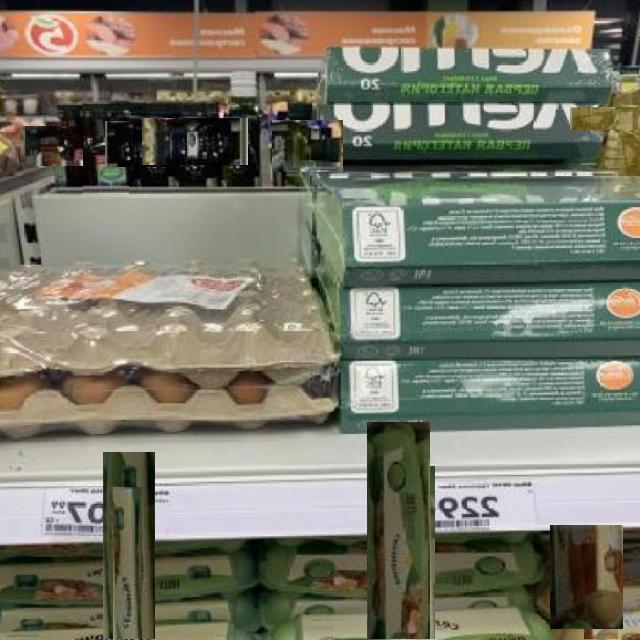Egg: (368, 422, 430, 640), (102, 453, 155, 640), (551, 524, 623, 629), (216, 66, 272, 193), (404, 467, 435, 640), (143, 117, 248, 165), (249, 120, 343, 172), (83, 98, 129, 198), (113, 487, 142, 640), (104, 121, 193, 167), (21, 125, 112, 166), (584, 584, 618, 640), (125, 502, 138, 640), (570, 108, 640, 130)
